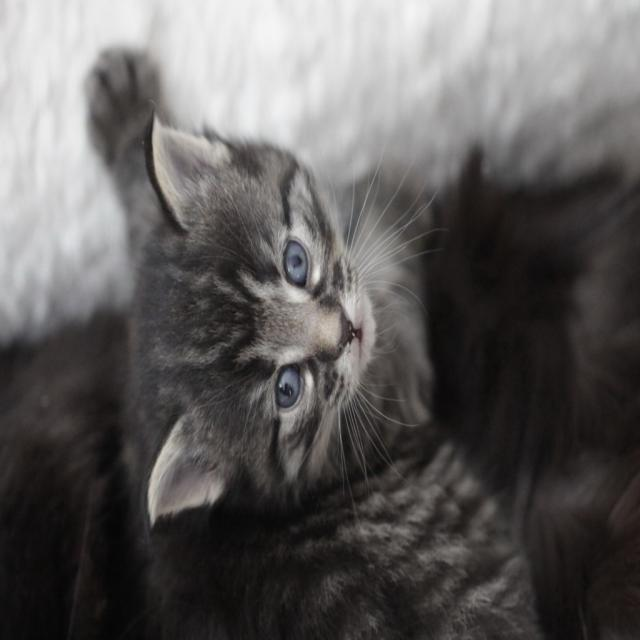Cat: (78, 40, 535, 638)
